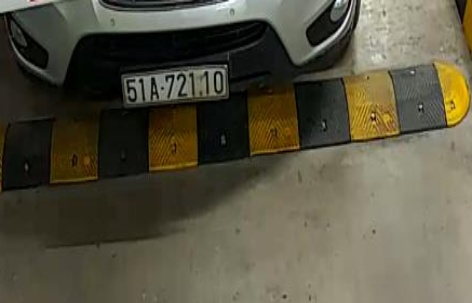plate: (113, 64, 231, 106)
